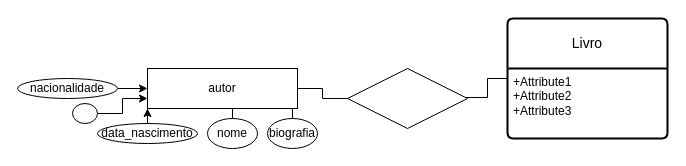
Image size: 686x166. Some labels were removed from this diagram. Here are the shapes that lost their labels. From the top down, the centre of each, then its label:
At point (85, 113): "id".
At point (407, 98): "ESCREVE".
